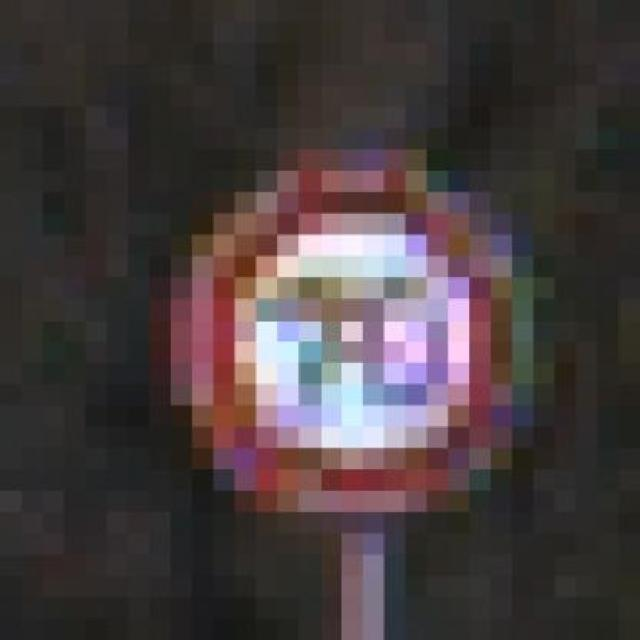forb_speed_over_70: (202, 179, 518, 498)
